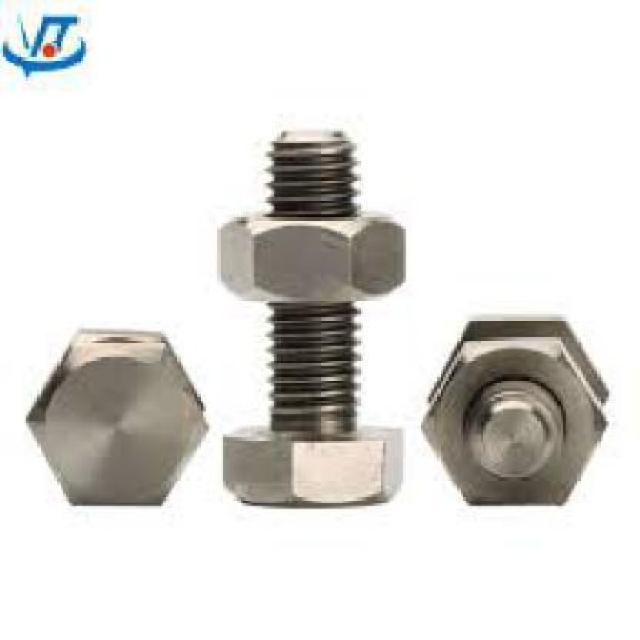METAL: (223, 128, 403, 506), (23, 326, 206, 506), (417, 337, 606, 506), (426, 317, 608, 483), (266, 132, 352, 434), (211, 214, 406, 297), (223, 428, 400, 503), (463, 371, 563, 480)
